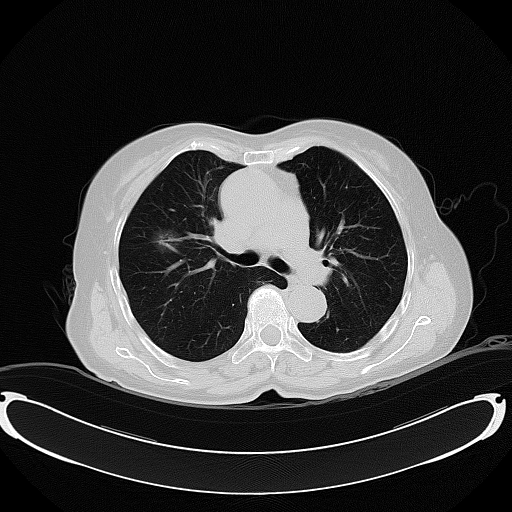nodule: (153, 231, 181, 251)
